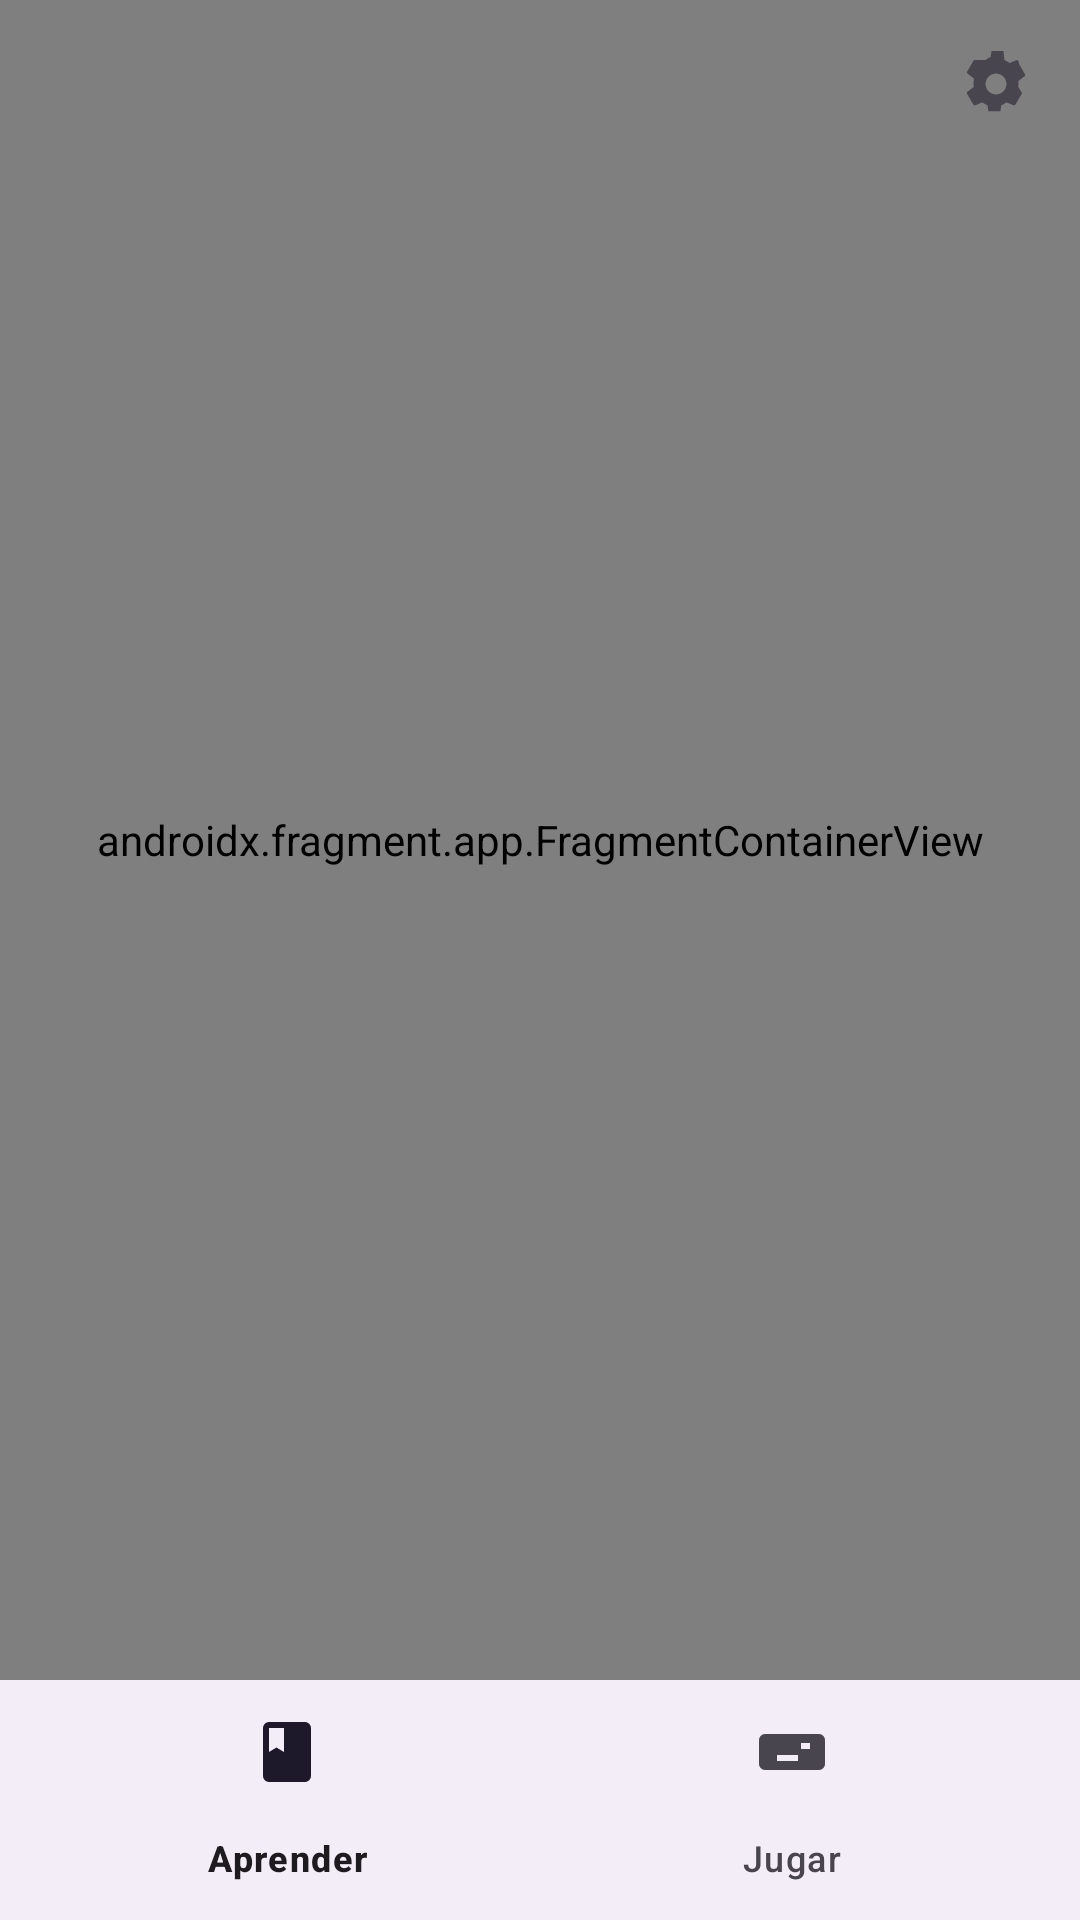

Icon click points for this 1080*1920 phone screenshot, format point (x, y):
settings: point (996, 81)
